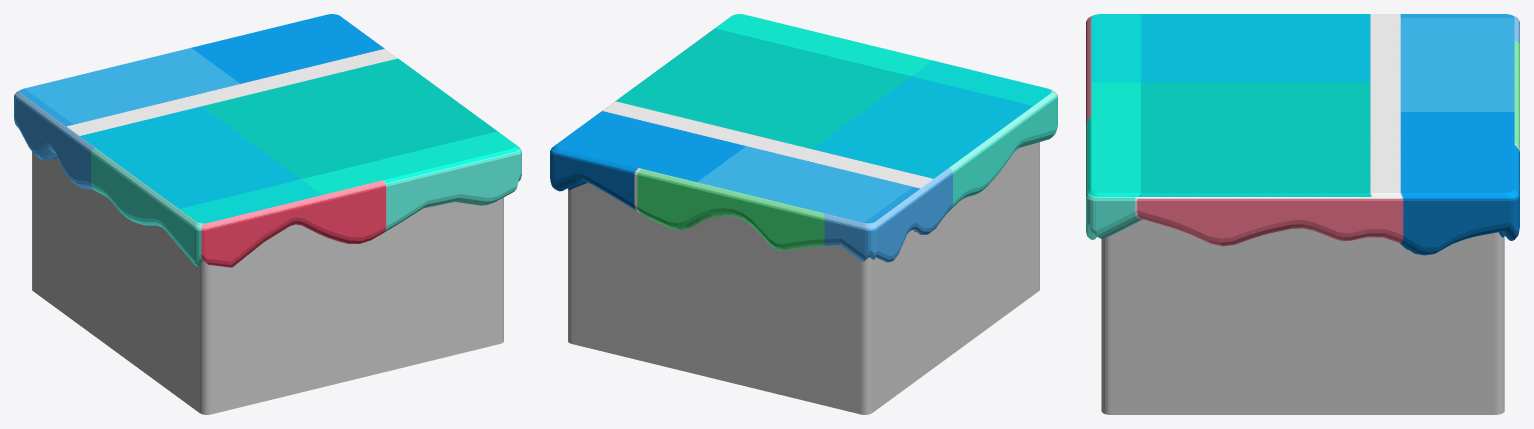
Rendered from BWorldArea.fbx.
3 views of the same model, side by side, from view 1: azimuth 30°, elevation 25°; view 2: azimuth 150°, elevation 25°; view 3: azimuth 270°, elevation 25° (orthographic). The views are drawn at different scales.
Visible parts, largest first — view 1: Cube; view 2: Cube; view 3: Cube.
Boxes of the visible parts, <box> form: Cube: <box>14,14,521,414</box>; Cube: <box>550,14,1057,414</box>; Cube: <box>1086,14,1519,414</box>.
Size of the model in its own units: 1077 by 620 by 1077.
